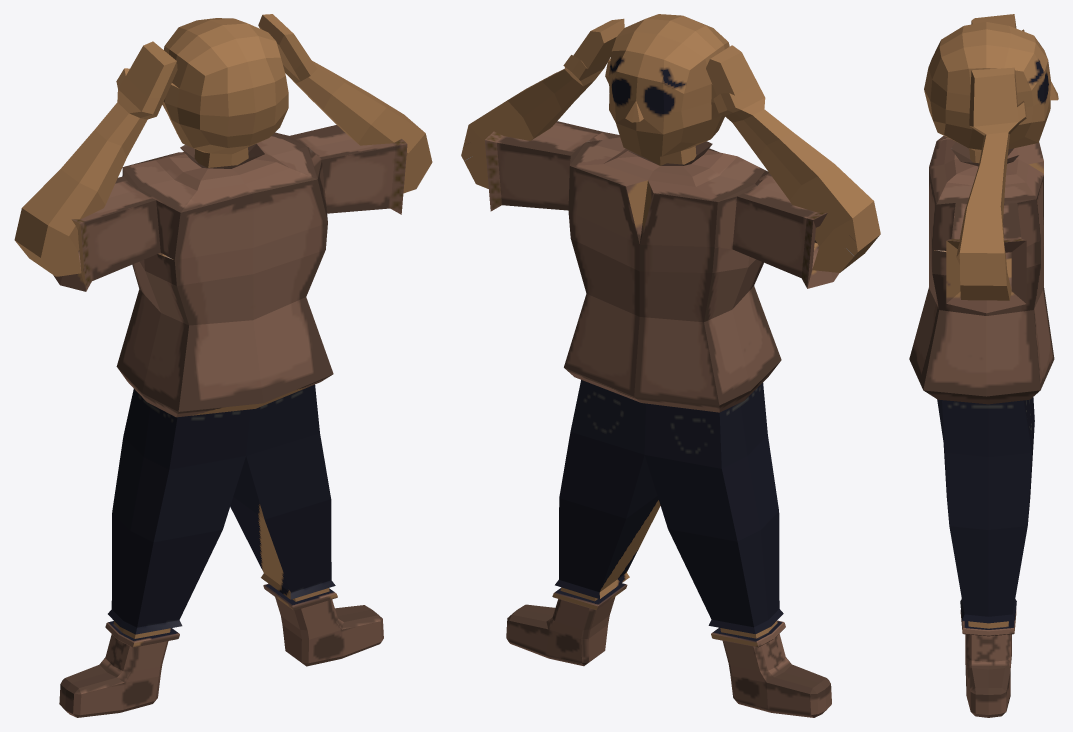
Rendered from Victim.glb.
3 views of the same model, side by side, from view 1: azimuth 30°, elevation 25°; view 2: azimuth 150°, elevation 25°; view 3: azimuth 270°, elevation 25° (orthographic). The views are drawn at different scales.
Visible parts, largest first — view 1: Quadsphere; view 2: Quadsphere; view 3: Quadsphere.
Boxes of the visible parts, x1,y1,x2,y2 form: Quadsphere: [14, 14, 432, 717]; Quadsphere: [461, 14, 880, 717]; Quadsphere: [909, 14, 1058, 717].
Size of the model in its own units: 2.05 by 3.24 by 0.7077.
1 material, 1 textured.
